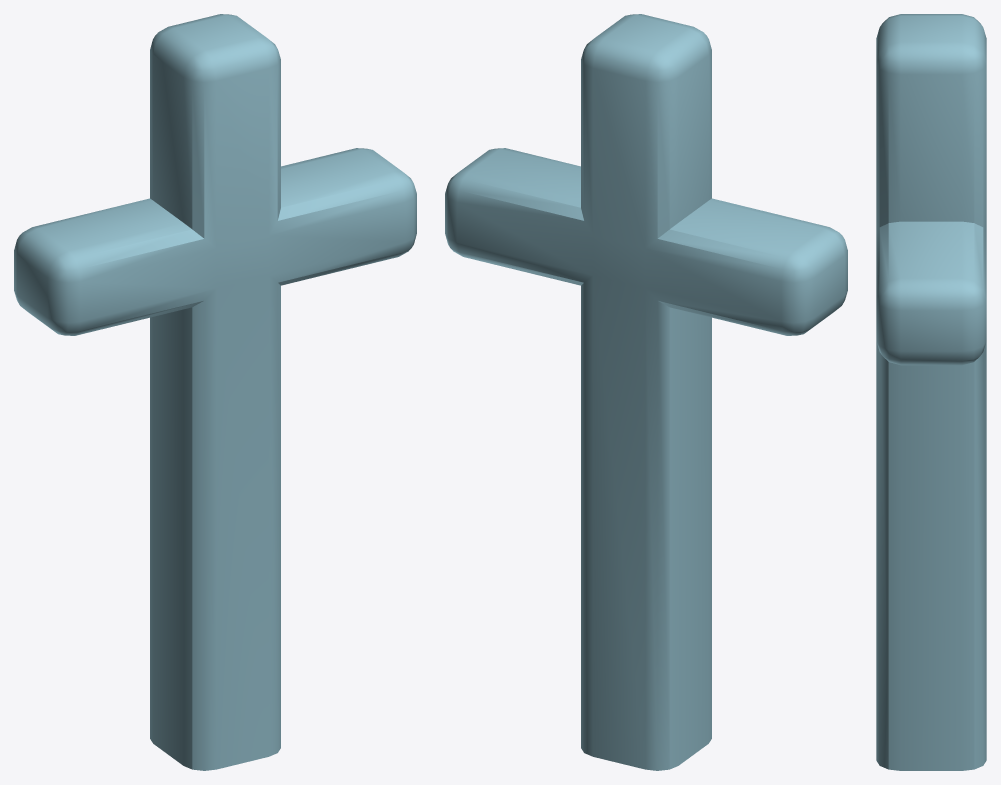
The model's file is Haç_İşareti.fbx.
3 views of the same model, side by side, from view 1: azimuth 30°, elevation 25°; view 2: azimuth 150°, elevation 25°; view 3: azimuth 270°, elevation 25° (orthographic).
Visible parts, largest first — view 1: Cube.011; view 2: Cube.011; view 3: Cube.011.
Part boxes in pixels (x1,y1,x2,y2): Cube.011: [14, 14, 416, 770]; Cube.011: [445, 14, 847, 770]; Cube.011: [876, 14, 986, 770].
Size of the model in its own units: 82.51 by 153 by 21.26.
